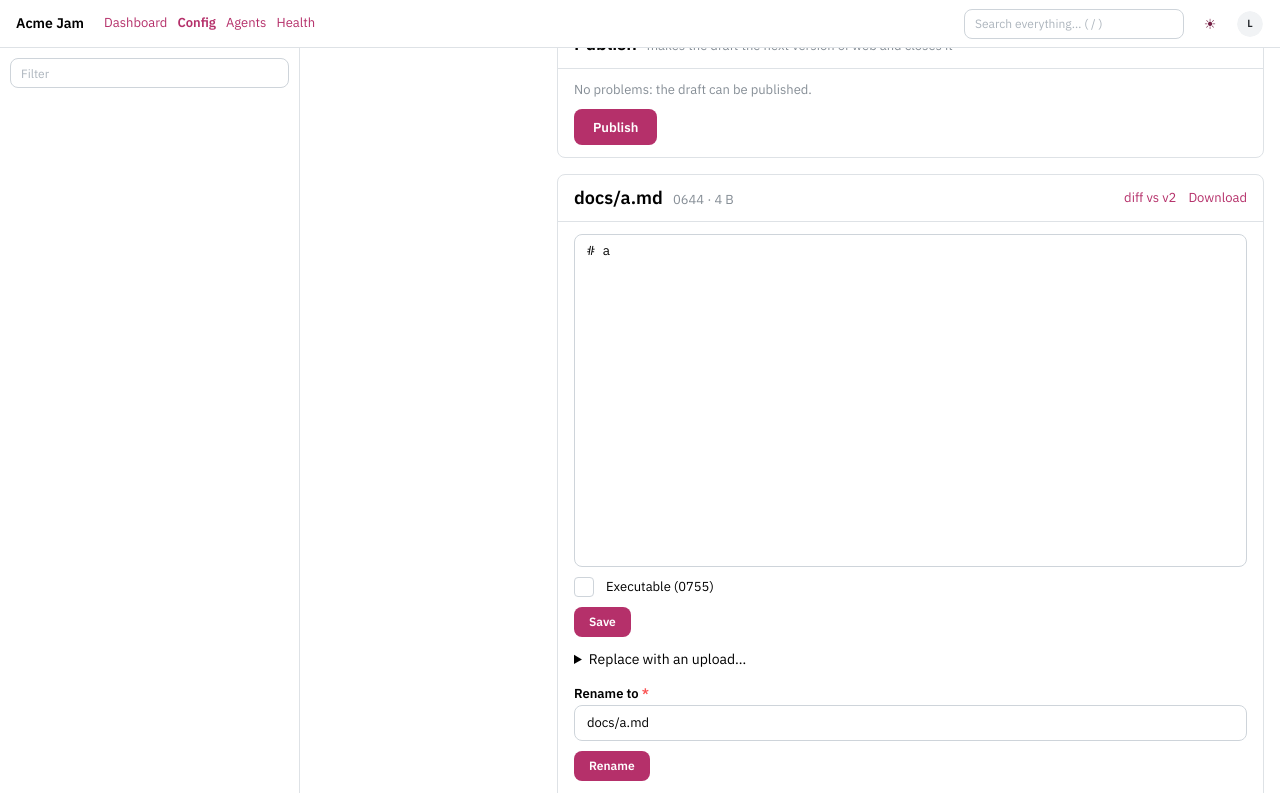
Test: the draft editor › saves the text with the draft's etag
The image size is (1280, 793).
(page scrolled)
Replace the text in the text box named "docs/a.md" with "# b" at (910, 401), box [574,234,1247,568]
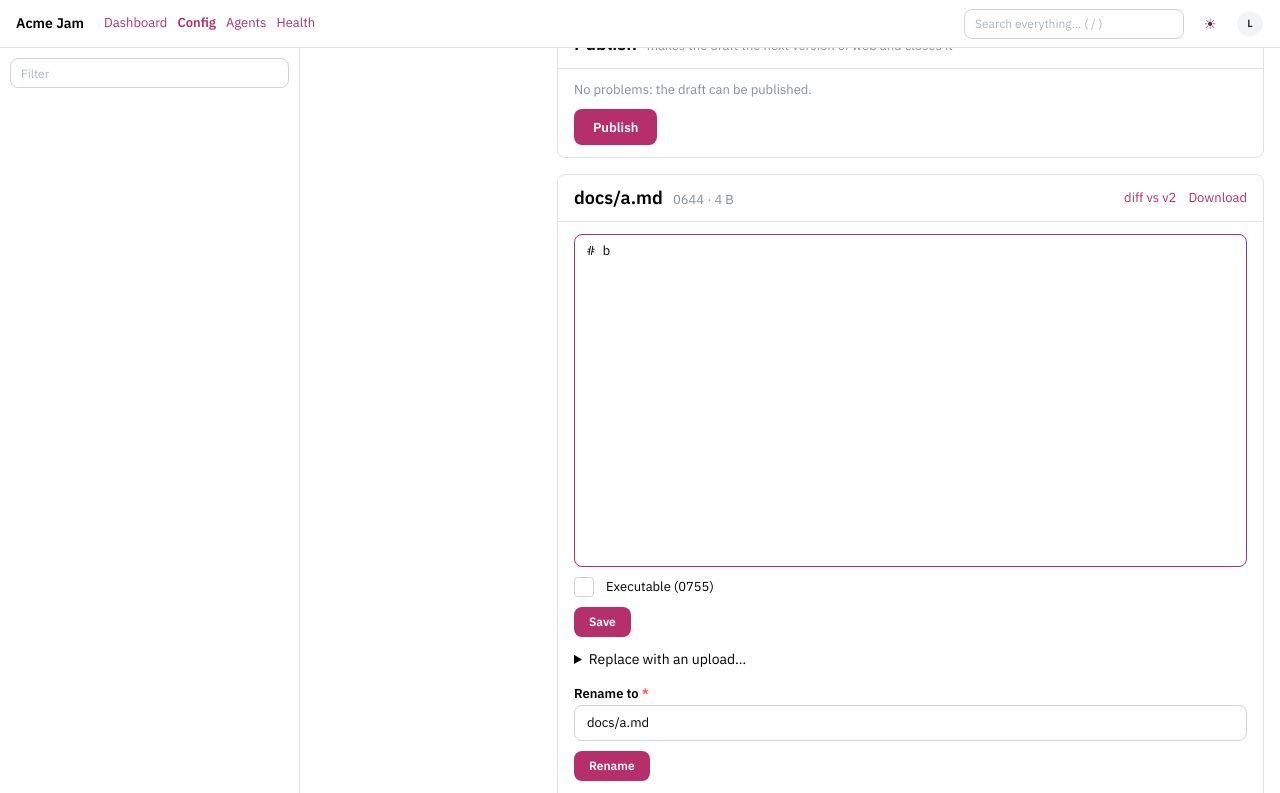
Click the button "Save".
click(602, 622)  # box [574,608,631,638]
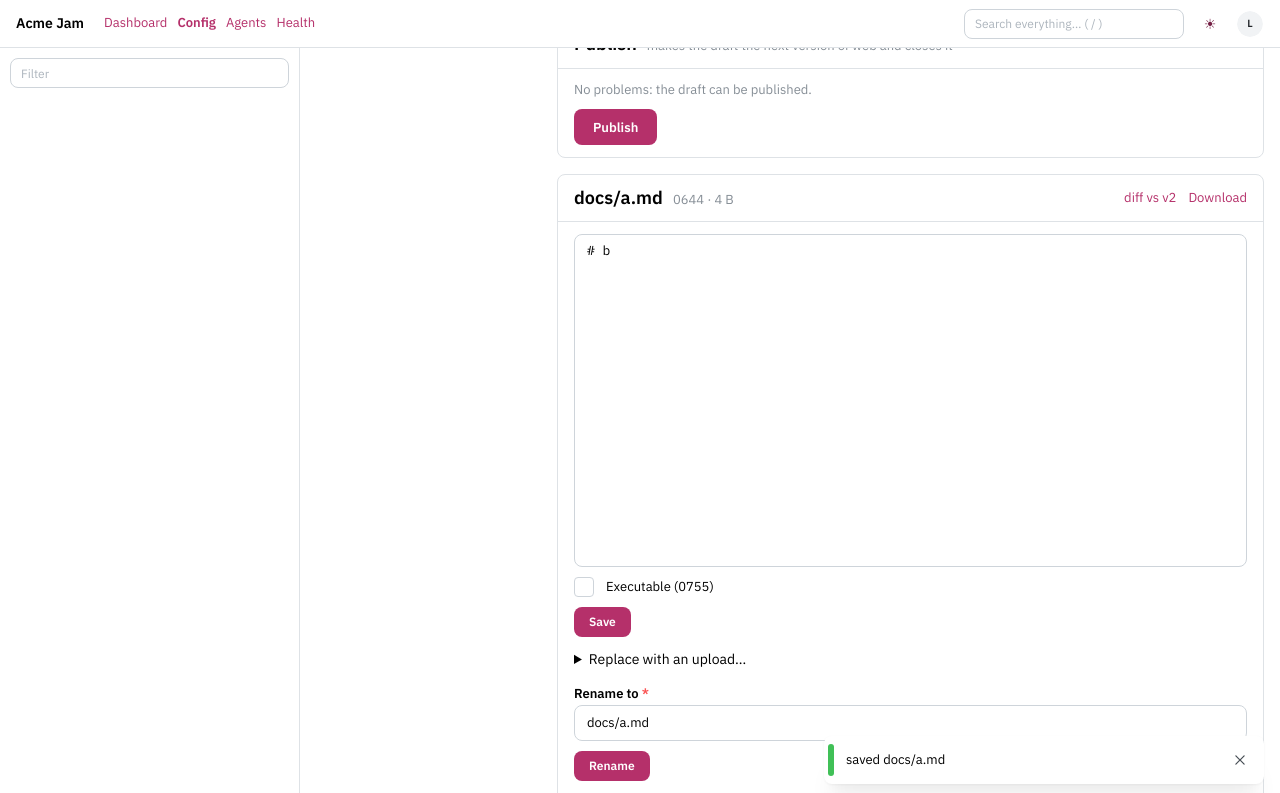
Now the text "saved docs/a.md" is shown, box [846,751,945,768]
